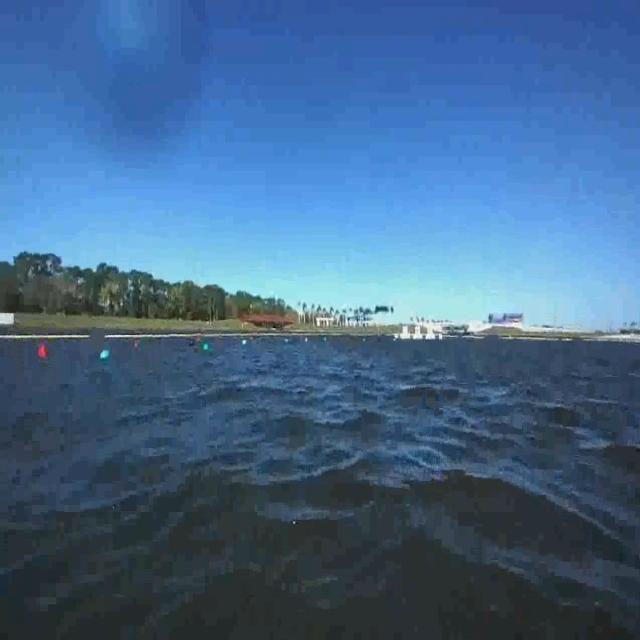green-buoy: (98, 349, 109, 363)
red-buoy: (38, 344, 48, 360)
